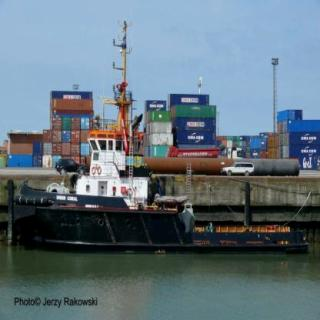Tug Boat: (5, 62, 309, 253)
